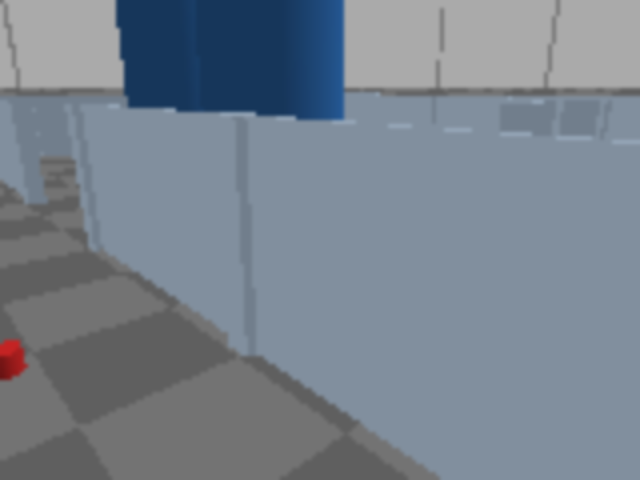puck: (0, 341, 26, 381)
